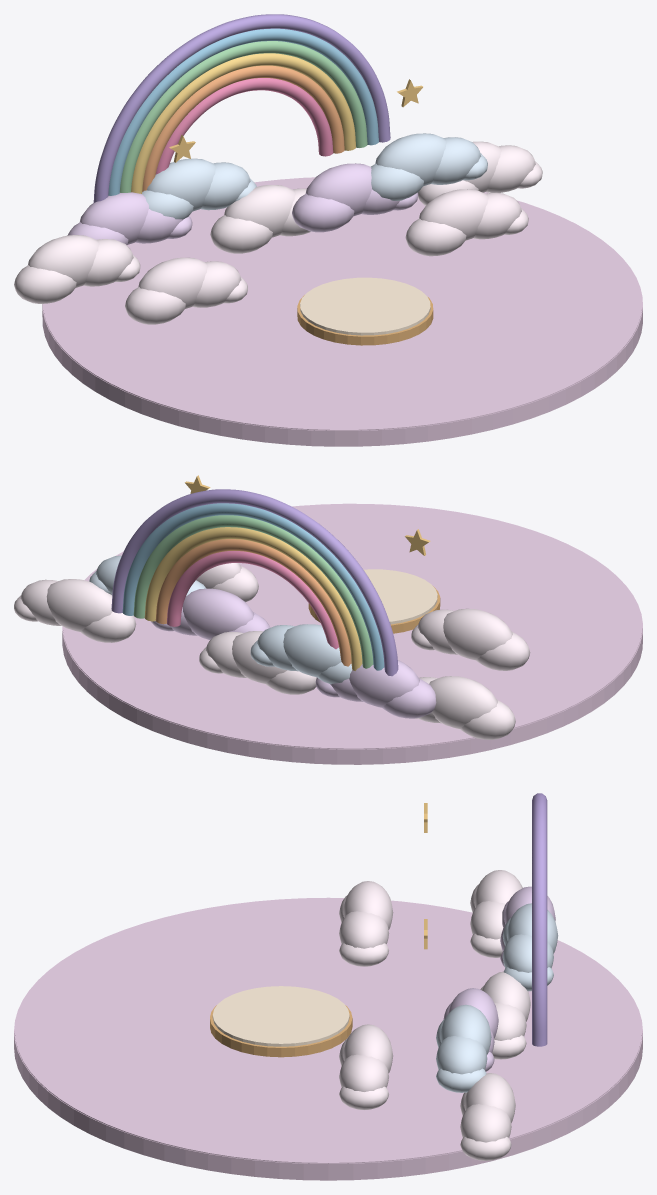
The model's file is arcoIris.glb.
3 renders of one model, top to bottom at view 1: azimuth 30°, elevation 25°; view 2: azimuth 150°, elevation 25°; view 3: azimuth 270°, elevation 25°, orthographic. The views are drawn at different scales.
Parts seen in each view (by area): view 1: Diorama piping.014, Diorama base.014, Rainbow.005, Look pedestal.014, Rainbow.004, Rainbow.003, Rainbow.002, Rainbow.001, Rainbow, Puffy cloud.073, Puffy cloud.053, Puffy cloud.069 (+23 smaller); view 2: Diorama piping.014, Diorama base.014, Rainbow.005, Rainbow.004, Rainbow.003, Rainbow.002, Rainbow.001, Rainbow, Look pedestal.014, Puffy cloud.069, Puffy cloud.077, Puffy cloud.081 (+18 smaller); view 3: Diorama piping.014, Diorama base.014, Look pedestal.014, Rainbow.005, Look pedestal trim.014, Puffy cloud.078, Puffy cloud.074, Puffy cloud.082, Puffy cloud.086, Puffy cloud.073, Puffy cloud.077, Puffy cloud.081 (+15 smaller).
Part boxes in pixels (left/top/right/bottom): Diorama piping.014: left=43, top=177, right=642, bottom=430; Diorama base.014: left=42, top=262, right=642, bottom=446; Rainbow.005: left=93, top=14, right=390, bottom=202; Look pedestal.014: left=300, top=277, right=430, bottom=335; Rainbow.004: left=108, top=28, right=378, bottom=195; Rainbow.003: left=120, top=41, right=367, bottom=192; Rainbow.002: left=131, top=53, right=356, bottom=193; Rainbow.001: left=142, top=65, right=344, bottom=191; Rainbow: left=155, top=78, right=333, bottom=174; Puffy cloud.073: left=375, top=133, right=446, bottom=186; Puffy cloud.053: left=27, top=235, right=99, bottom=287; Puffy cloud.069: left=305, top=163, right=371, bottom=216; Diorama piping.014: left=63, top=503, right=642, bottom=749; Diorama base.014: left=62, top=588, right=642, bottom=764; Rainbow.005: left=111, top=489, right=398, bottom=676; Rainbow.004: left=122, top=503, right=384, bottom=670; Rainbow.003: left=133, top=515, right=373, bottom=668; Rainbow.002: left=144, top=527, right=362, bottom=670; Rainbow.001: left=155, top=539, right=351, bottom=666; Rainbow: left=167, top=551, right=338, bottom=649; Look pedestal.014: left=363, top=569, right=437, bottom=624; Puffy cloud.069: left=182, top=588, right=254, bottom=639; Puffy cloud.077: left=46, top=579, right=112, bottom=631; Puffy cloud.081: left=443, top=608, right=512, bottom=660; Diorama piping.014: left=14, top=897, right=642, bottom=1163; Diorama base.014: left=14, top=990, right=642, bottom=1180; Look pedestal.014: left=212, top=986, right=349, bottom=1046; Rainbow.005: left=532, top=793, right=547, bottom=1046; Look pedestal trim.014: left=210, top=1005, right=352, bottom=1057; Puffy cloud.078: left=460, top=1104, right=511, bottom=1142; Puffy cloud.074: left=436, top=1036, right=487, bottom=1074; Puffy cloud.082: left=339, top=911, right=389, bottom=948; Puffy cloud.086: left=339, top=1054, right=388, bottom=1091; Puffy cloud.073: left=440, top=1004, right=491, bottom=1054; Puffy cloud.077: left=464, top=1073, right=515, bottom=1123; Puffy cloud.081: left=343, top=881, right=393, bottom=929.
Size of what is drawn, in the model's own units: 8.83 by 3.6 by 8.64.
